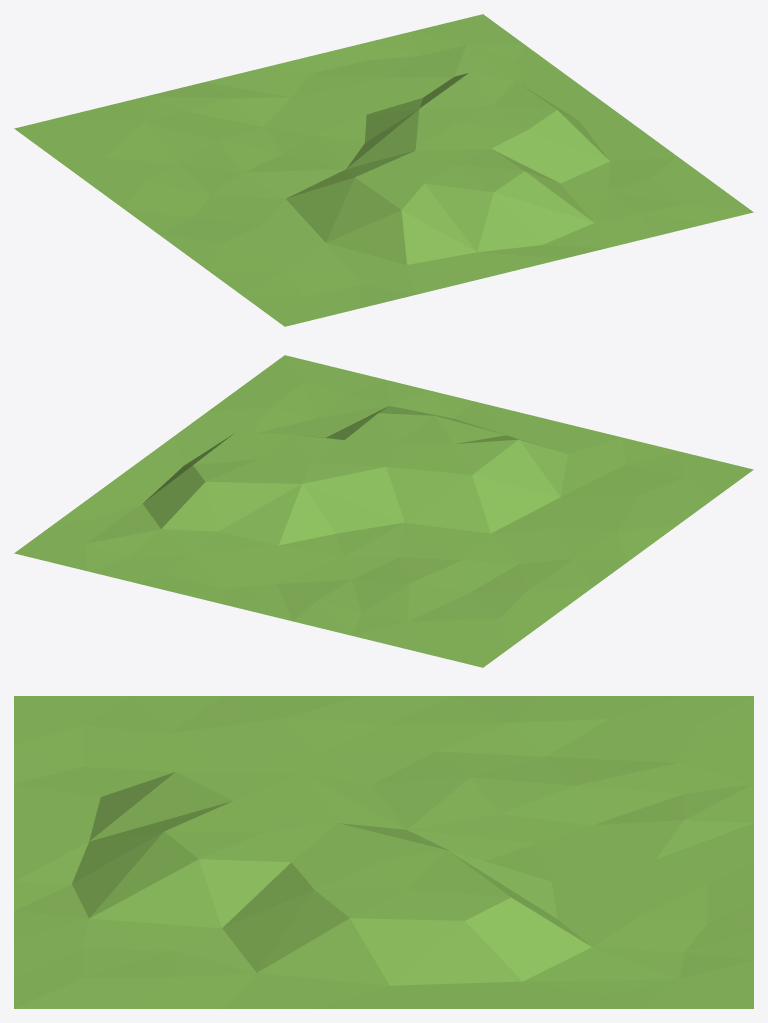
Rendered from MT_Terrain_S_c_07.fbx.
The picture shows the model from 3 angles, top to bottom: view 1: azimuth 30°, elevation 25°; view 2: azimuth 150°, elevation 25°; view 3: azimuth 270°, elevation 25°; orthographic projection. The views are drawn at different scales.
Visible parts, largest first — view 1: MT_Terrain_S_c_07; view 2: MT_Terrain_S_c_07; view 3: MT_Terrain_S_c_07.
Part boxes in pixels (<box>): MT_Terrain_S_c_07: <box>14,14,753,326</box>; MT_Terrain_S_c_07: <box>14,355,753,667</box>; MT_Terrain_S_c_07: <box>14,696,753,1008</box>.
Size of the model in its own units: 2500 by 169 by 2500.
